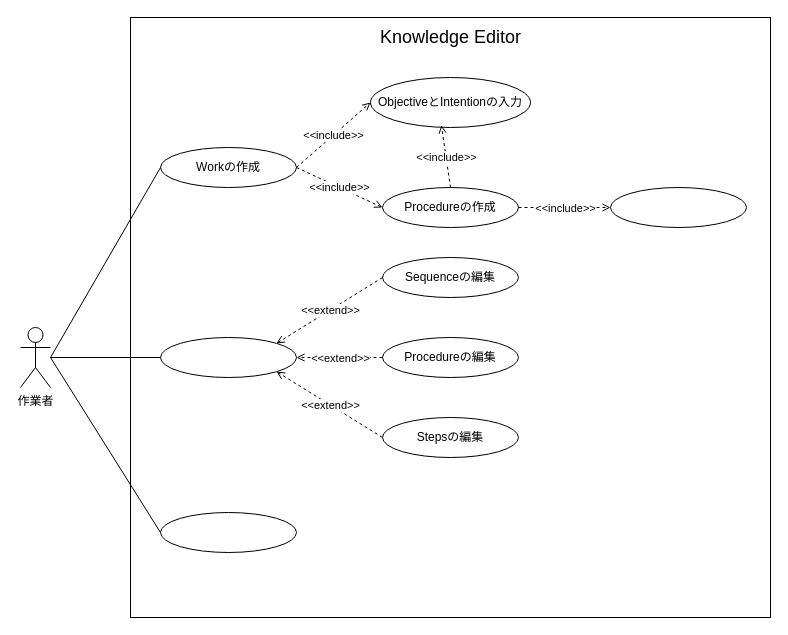
This 788x635 diagram has some shape labels left out. The shapes that lost their labels are listed below. From the top down, each one's centre as x and y in pixels, then its label:
At (x=678, y=207): "Stepsの作成".
At (x=228, y=357): "Workの編集".
At (x=228, y=532): "Workの実行".
